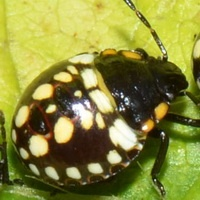insect: (6, 0, 160, 90), (132, 0, 199, 84), (159, 123, 199, 199), (126, 168, 156, 198)
